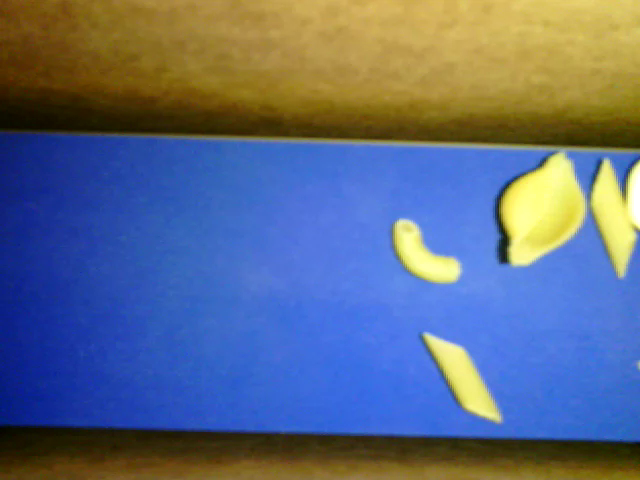elbow: (394, 217, 462, 284)
penne: (421, 331, 504, 422), (590, 157, 637, 278)
shell: (498, 148, 587, 267)
